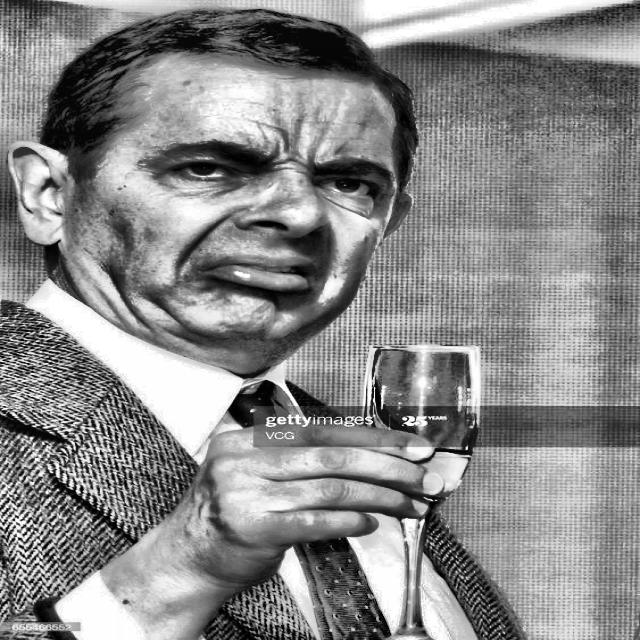disgust: (35, 17, 418, 360)
